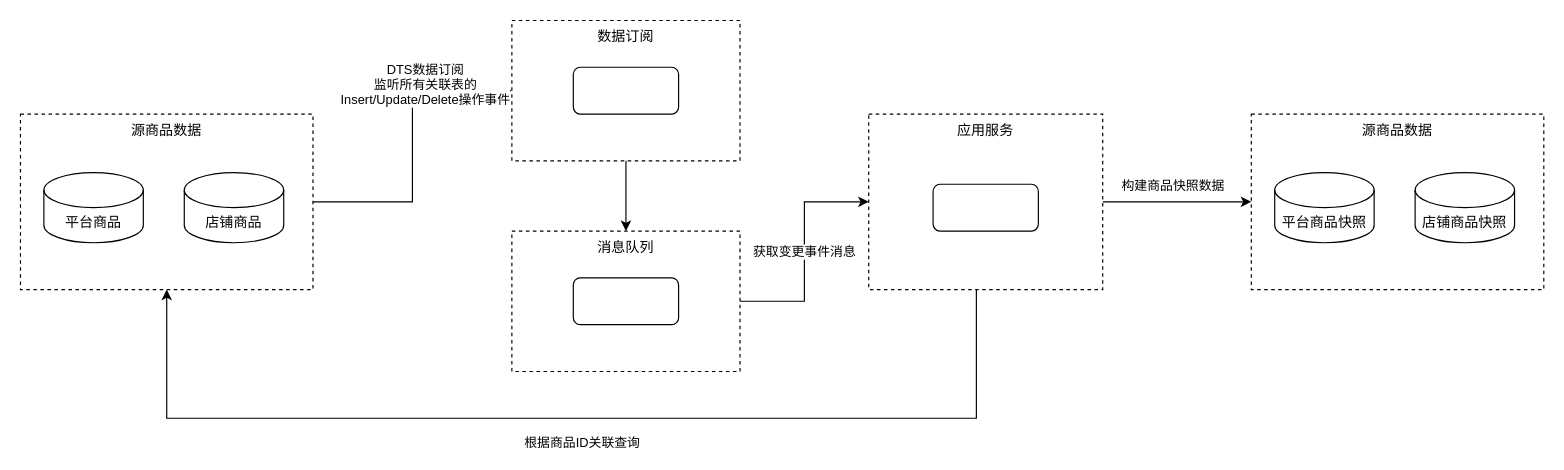
This 1564x470 diagram has some shape labels left out. The shapes that lost their labels are listed below. From the top down, each one's centre as x and y in pixels, then its label:
At pixel 625 90: "DTS".
At pixel 985 207: "商品服务".
At pixel 625 301: "Kafka".
